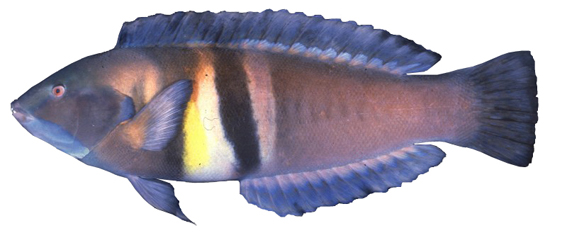fish: (11, 9, 539, 225)
